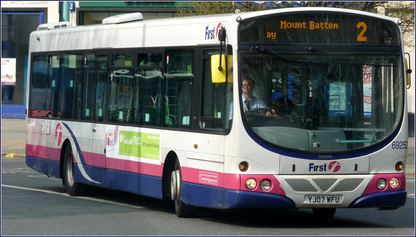bus: (24, 6, 413, 216)
